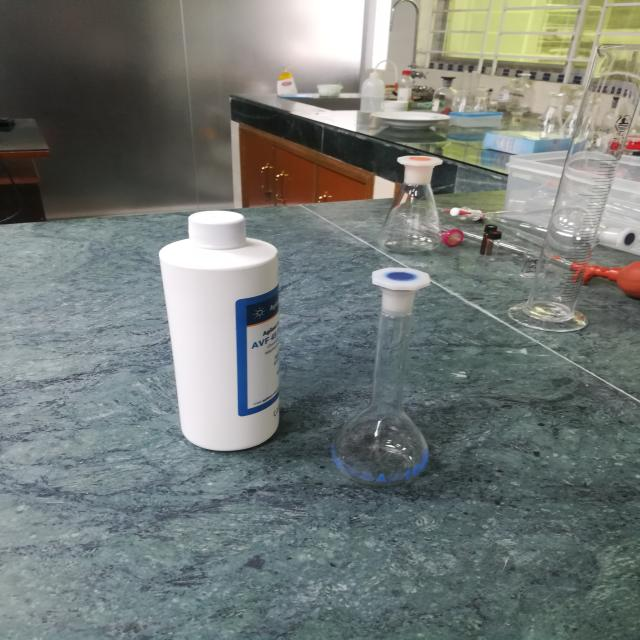Volumetric_Flask: (325, 247, 464, 510)
